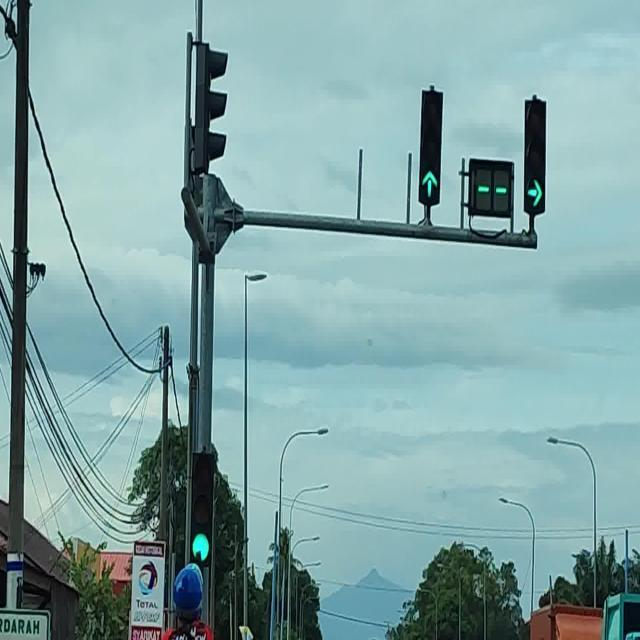green_light: (416, 90, 443, 206), (523, 98, 546, 215), (190, 454, 213, 566)
